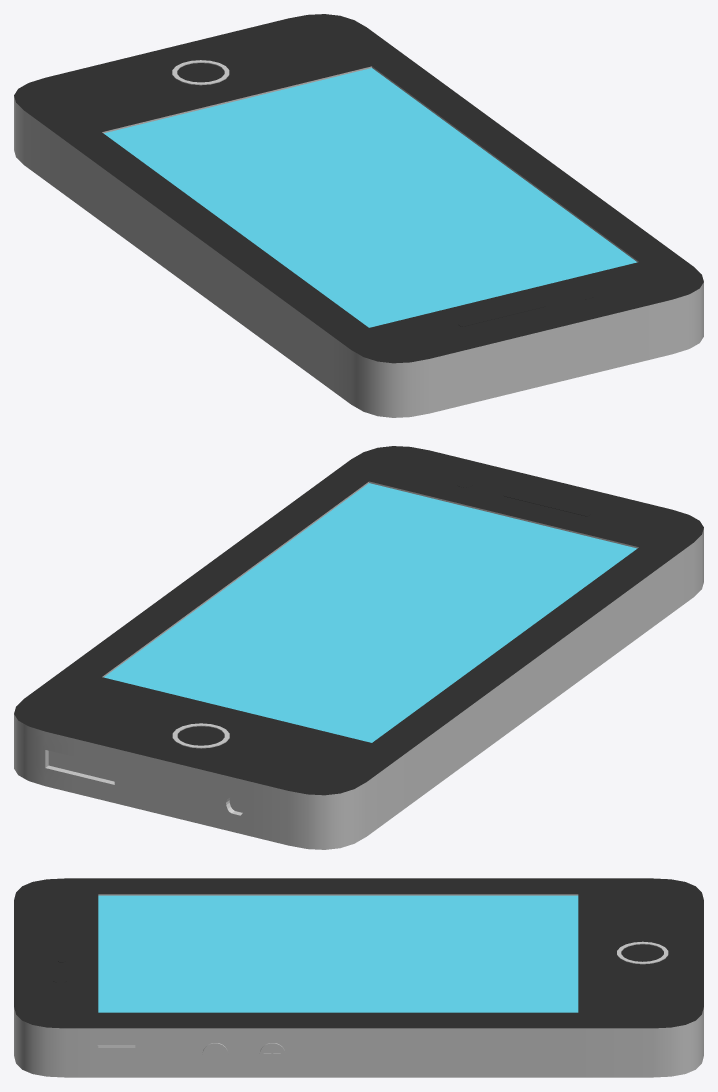
File: 68f749a0-cbfa-444f-85eb-498894722db8.glb
3 renders of one model, top to bottom at view 1: azimuth 30°, elevation 25°; view 2: azimuth 150°, elevation 25°; view 3: azimuth 270°, elevation 25°, orthographic. The views are drawn at different scales.
Visible parts, largest first — view 1: Box20188, Object004; view 2: Box20188, Object004, Object006; view 3: Box20188, Object004, Box20189, Cylinder005, Cylinder006, Cylinder008, Box20187.
Part boxes in pixels (bbox=[...]): Box20188: bbox=[14, 14, 703, 417]; Object004: bbox=[104, 68, 637, 327]; Box20188: bbox=[14, 446, 703, 849]; Object004: bbox=[104, 483, 637, 742]; Object006: bbox=[48, 751, 114, 781]; Box20188: bbox=[14, 878, 703, 1077]; Object004: bbox=[98, 895, 578, 1012]; Box20189: bbox=[97, 1045, 135, 1064]; Cylinder005: bbox=[202, 1043, 228, 1066]; Cylinder006: bbox=[259, 1043, 285, 1066]; Cylinder008: bbox=[617, 941, 668, 964]; Box20187: bbox=[98, 1046, 135, 1054].
Bounding box in the file's own units: 29671 × 4556 × 57274.
